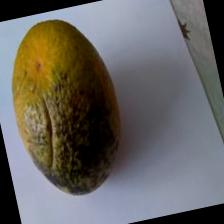Orange Rotten: (0, 4, 146, 216)
